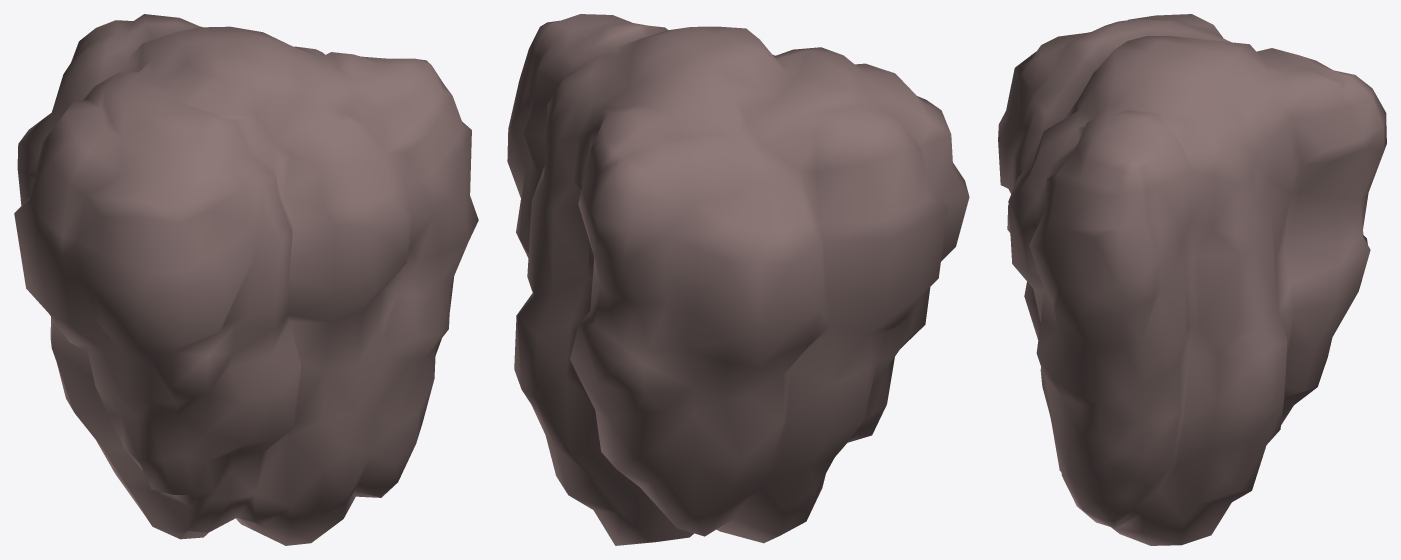
3 views of the same model, side by side, from view 1: azimuth 30°, elevation 25°; view 2: azimuth 150°, elevation 25°; view 3: azimuth 270°, elevation 25° (orthographic). The views are drawn at different scales.
Visible parts, largest first — view 1: G:\FFXIV-MapTools\exports\u5f1\bg\ex4\04_uvs_u5\fld\u5f1\bgp; view 2: G:\FFXIV-MapTools\exports\u5f1\bg\ex4\04_uvs_u5\fld\u5f1\bgp; view 3: G:\FFXIV-MapTools\exports\u5f1\bg\ex4\04_uvs_u5\fld\u5f1\bgp.
Part boxes in pixels (bbox=[...]): G:\FFXIV-MapTools\exports\u5f1\bg\ex4\04_uvs_u5\fld\u5f1\bgp: bbox=[14, 14, 478, 545]; G:\FFXIV-MapTools\exports\u5f1\bg\ex4\04_uvs_u5\fld\u5f1\bgp: bbox=[507, 14, 969, 545]; G:\FFXIV-MapTools\exports\u5f1\bg\ex4\04_uvs_u5\fld\u5f1\bgp: bbox=[998, 14, 1386, 545].
Size of the model in its own units: 34.5 by 39.33 by 29.82.
